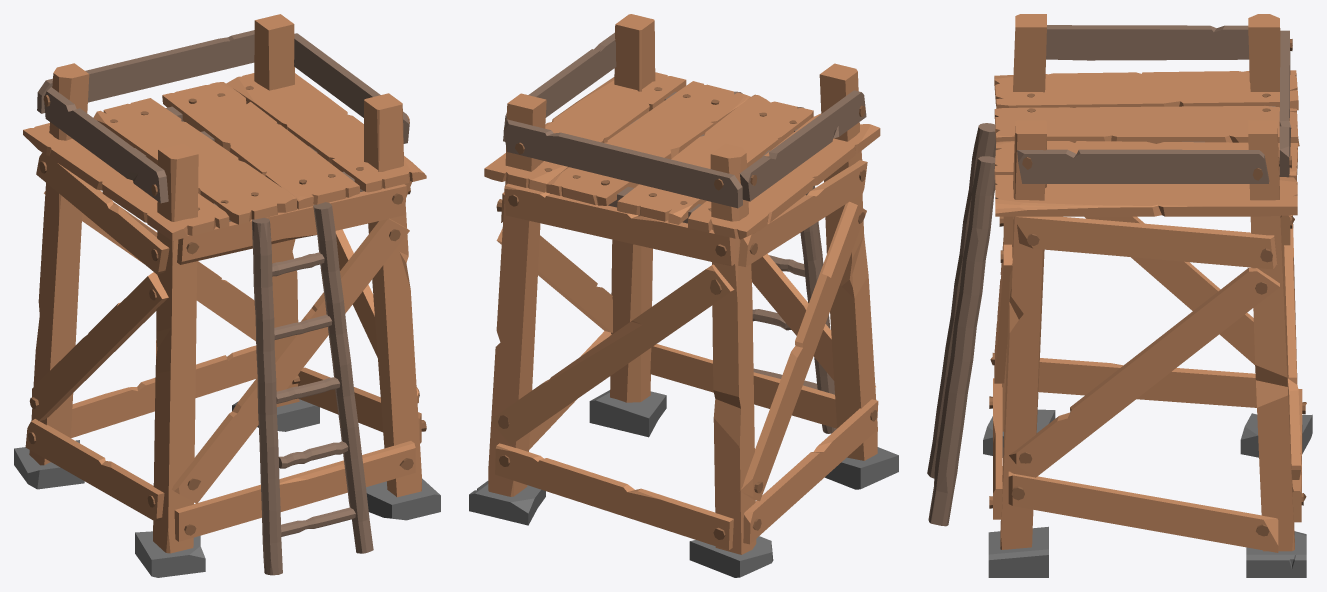
File: guard-tower-L2.fbx
3 renders of one model, left to right at view 1: azimuth 30°, elevation 25°; view 2: azimuth 150°, elevation 25°; view 3: azimuth 270°, elevation 25°, orthographic. The views are drawn at different scales.
Visible parts, largest first — view 1: gueard-tower-L2; view 2: gueard-tower-L2; view 3: gueard-tower-L2.
Boxes of the visible parts, x1=… form: gueard-tower-L2: x1=14, y1=14, x2=440, y2=577; gueard-tower-L2: x1=469, y1=14, x2=898, y2=577; gueard-tower-L2: x1=927, y1=14, x2=1312, y2=577.
Bounding box in the file's own units: 289 × 391 × 317.
